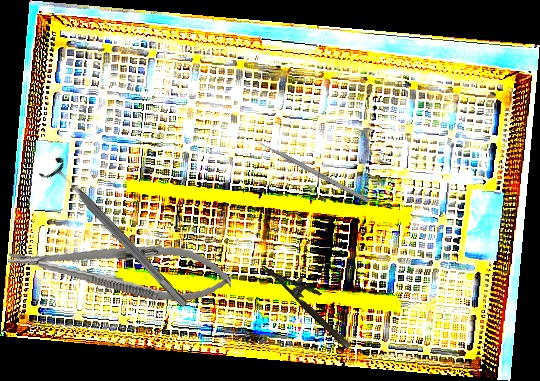Fixation Ring: (37, 153, 197, 316)
Needle Holder: (5, 229, 235, 308), (261, 251, 363, 351)
Pusher: (248, 135, 371, 204)
